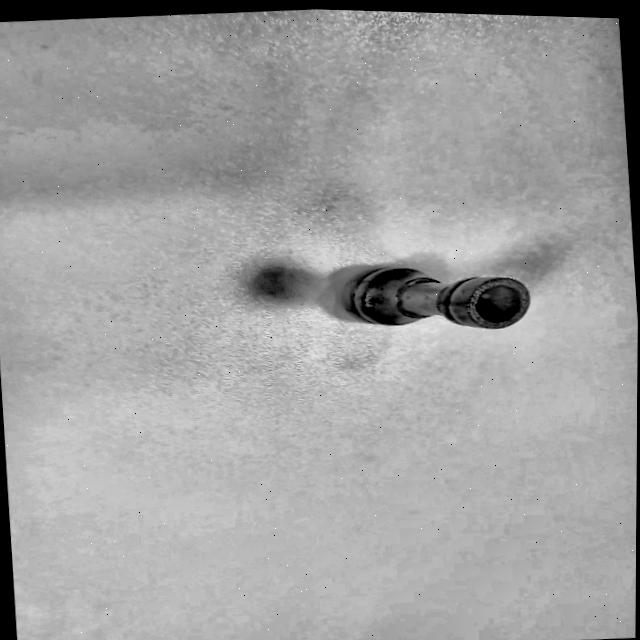black-rook: (311, 243, 551, 355)
